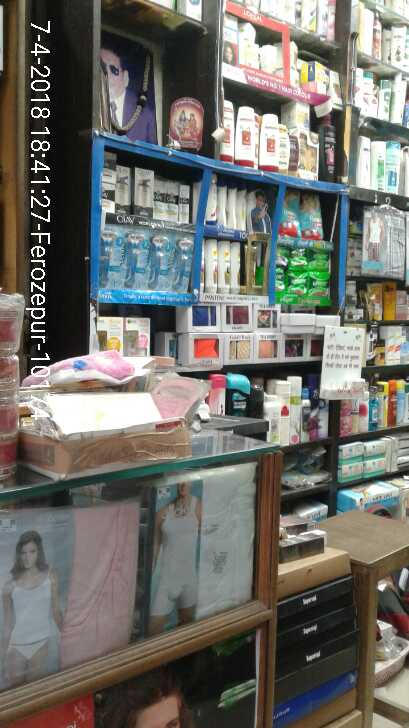venus: (123, 231, 149, 289), (149, 231, 172, 291), (102, 226, 123, 289), (172, 235, 193, 291)
